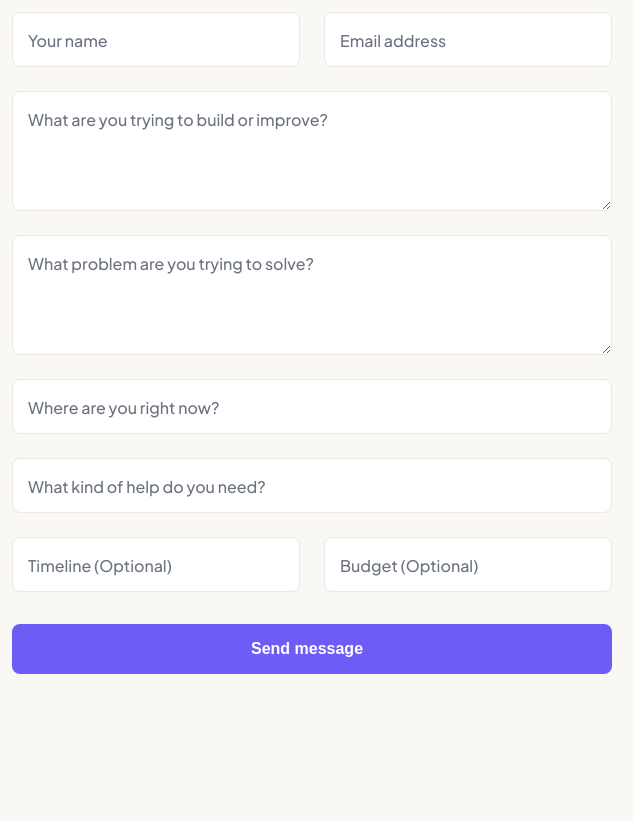
Test case: ContactForm › validates required fields on empty submission
This screenshot has width=633, height=821.
Click the button "Send message": (312, 649) 12,624 -> 612,674
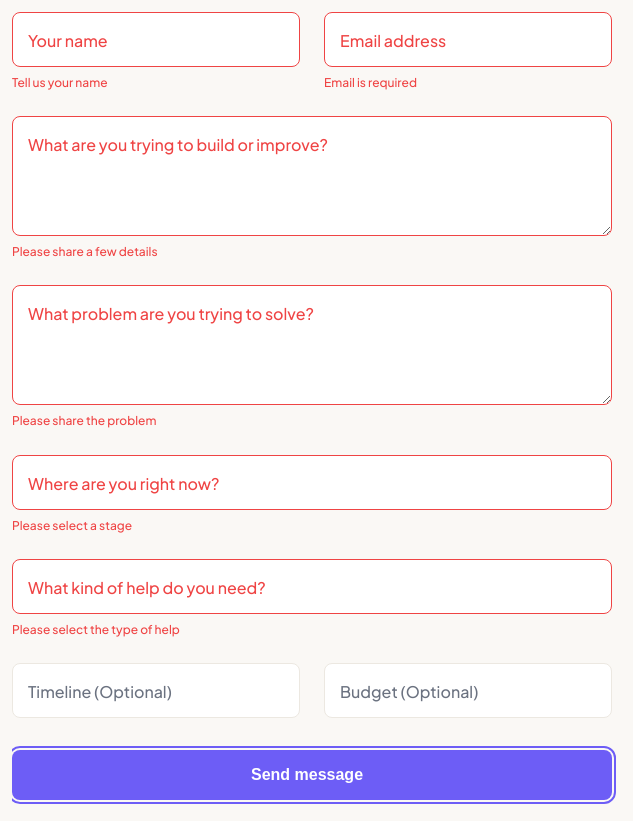
Expected: the text "Tell us your name" is shown, 12,75 -> 108,90
Expected: the text "Email is required" is shown, 324,75 -> 417,90
Expected: the text "Please share a few details" is shown, 12,244 -> 158,259
